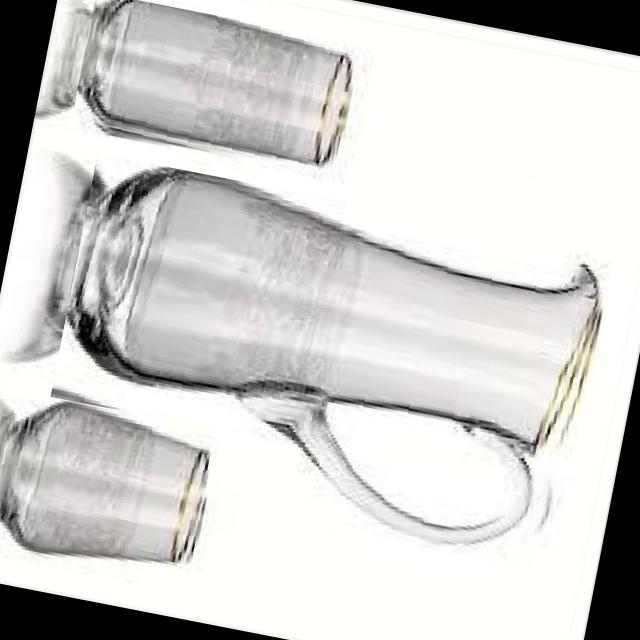Glass: (35, 153, 614, 572), (68, 0, 360, 181), (0, 390, 221, 586)
